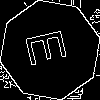E: (25, 25, 77, 68)
